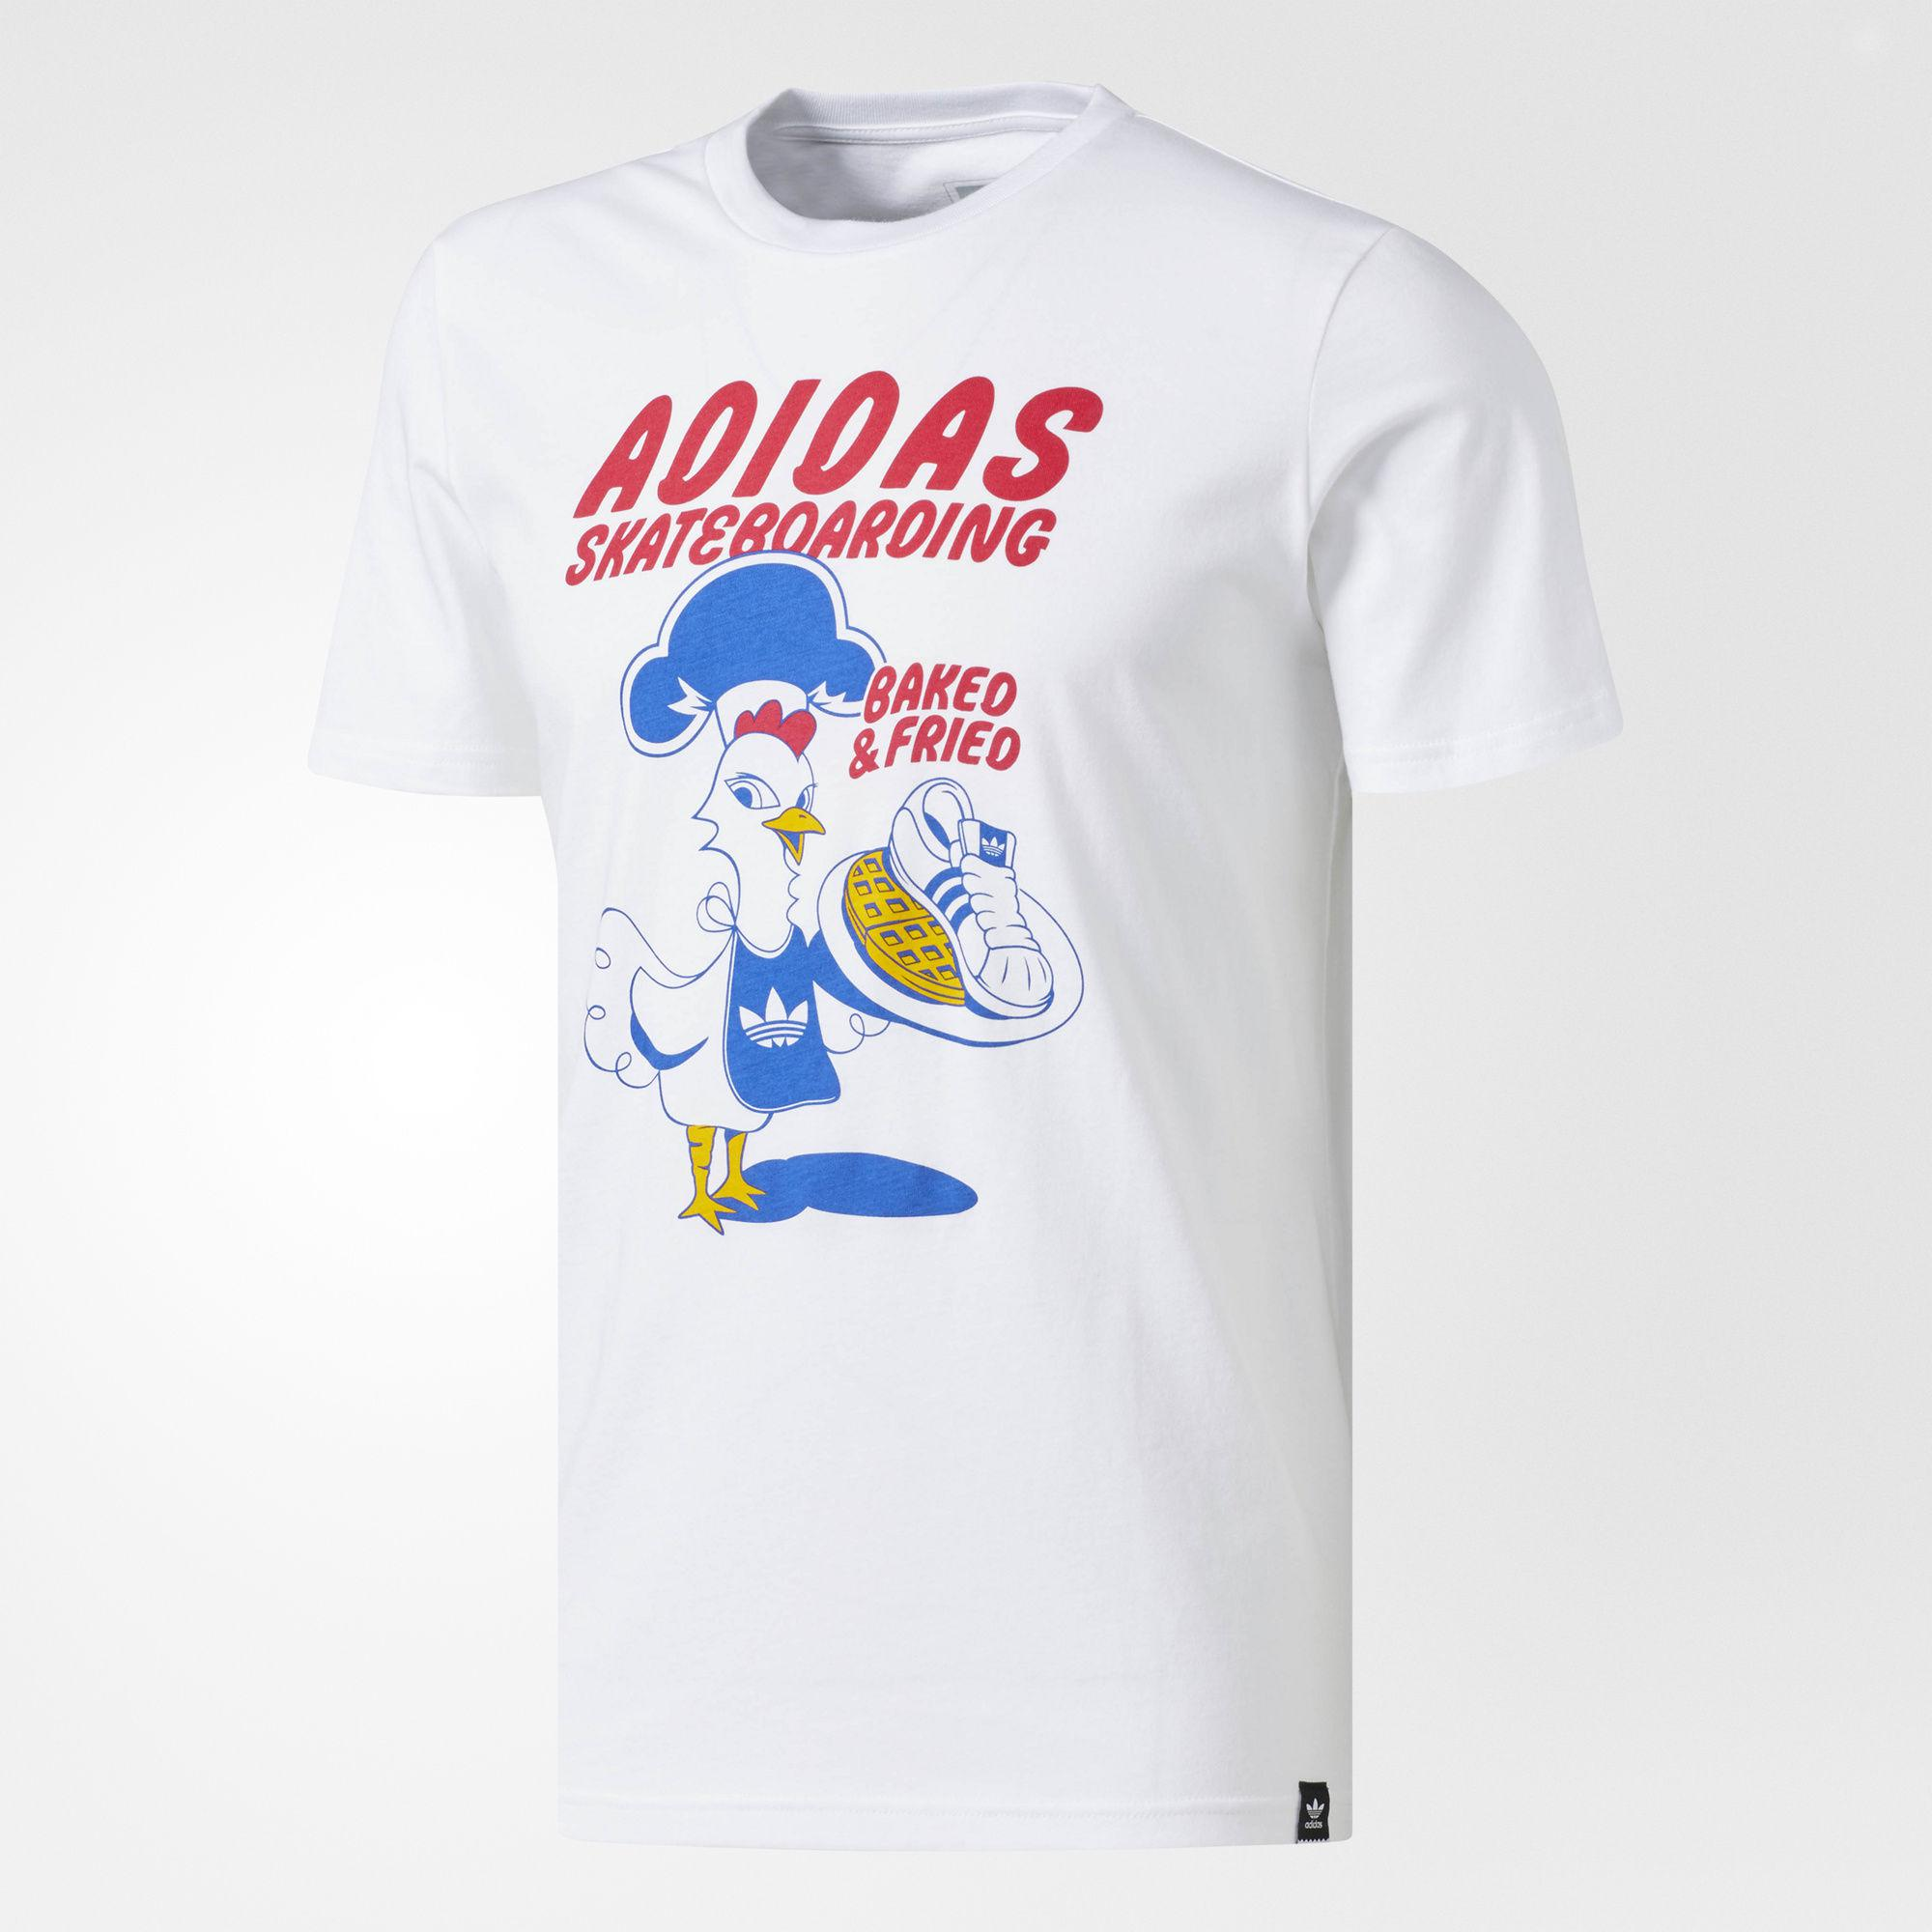teeshirt: (306, 46, 1693, 1826)
